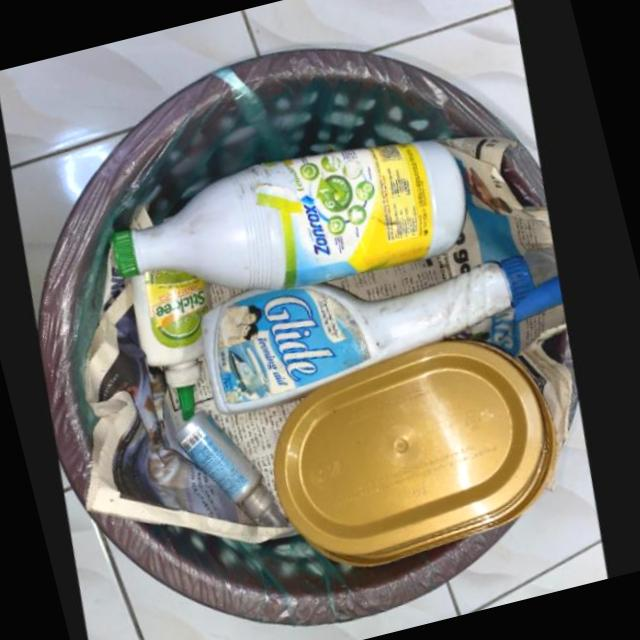chai_nhua: (204, 254, 565, 417), (115, 147, 470, 294), (176, 413, 292, 532), (132, 272, 212, 425)
giay: (87, 248, 303, 549), (333, 143, 556, 307), (463, 311, 576, 502), (196, 368, 304, 499)
hop_nhua: (274, 346, 557, 573)
